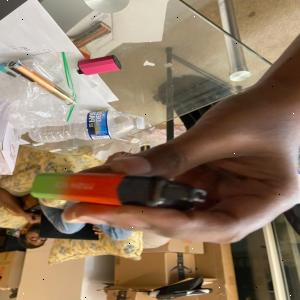Swift-E-Ciggirate: (30, 171, 209, 209)
